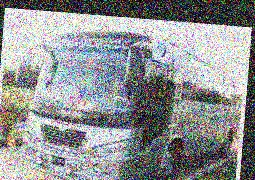bus: (7, 18, 246, 180)
